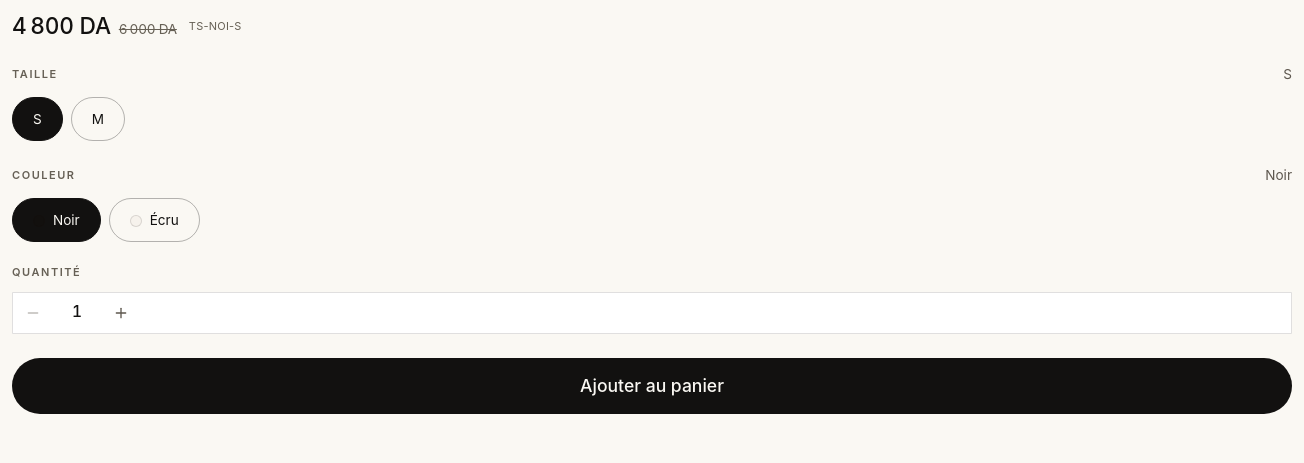
Scenario: PurchasePanel › confirms the addition in a live region rather than only visually
Click the button "Ajouter au panier". click: (652, 386)
box: [12, 358, 1292, 414]
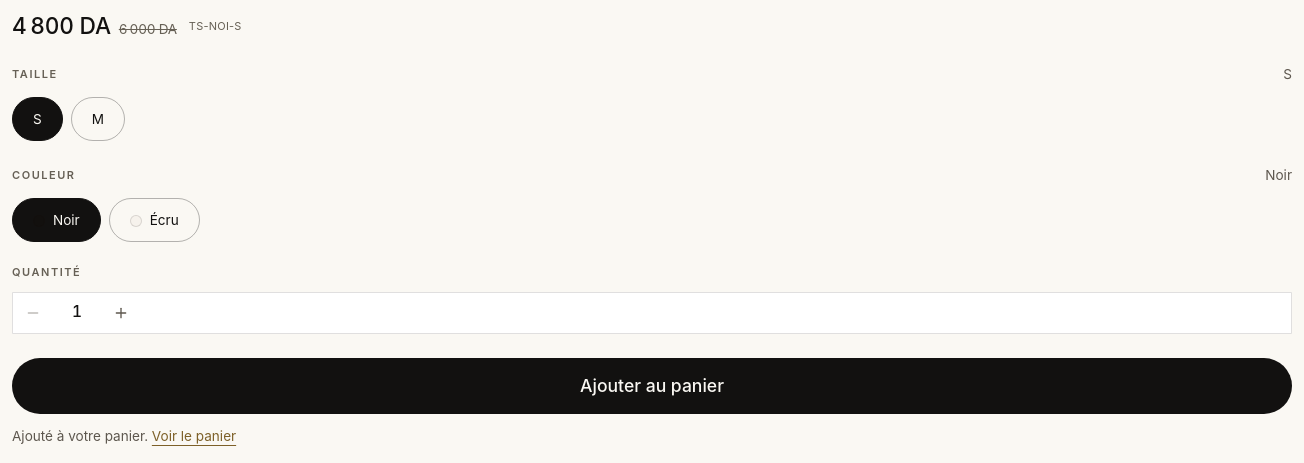
Now the message shows "Ajouté à votre panier.", box [12, 428, 148, 444]
